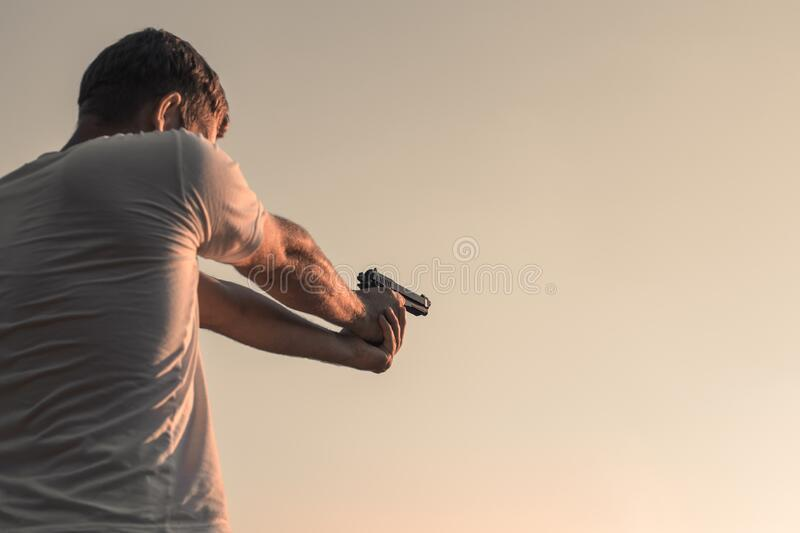weapon: (353, 263, 434, 326)
